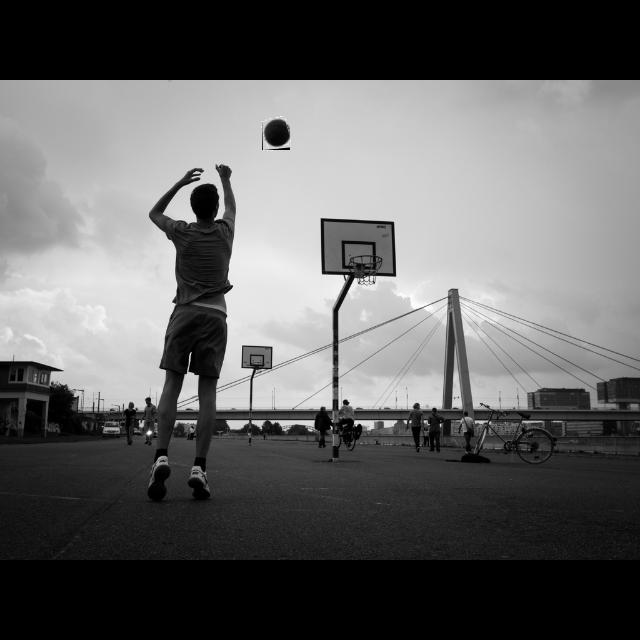Football: (262, 118, 290, 150)
